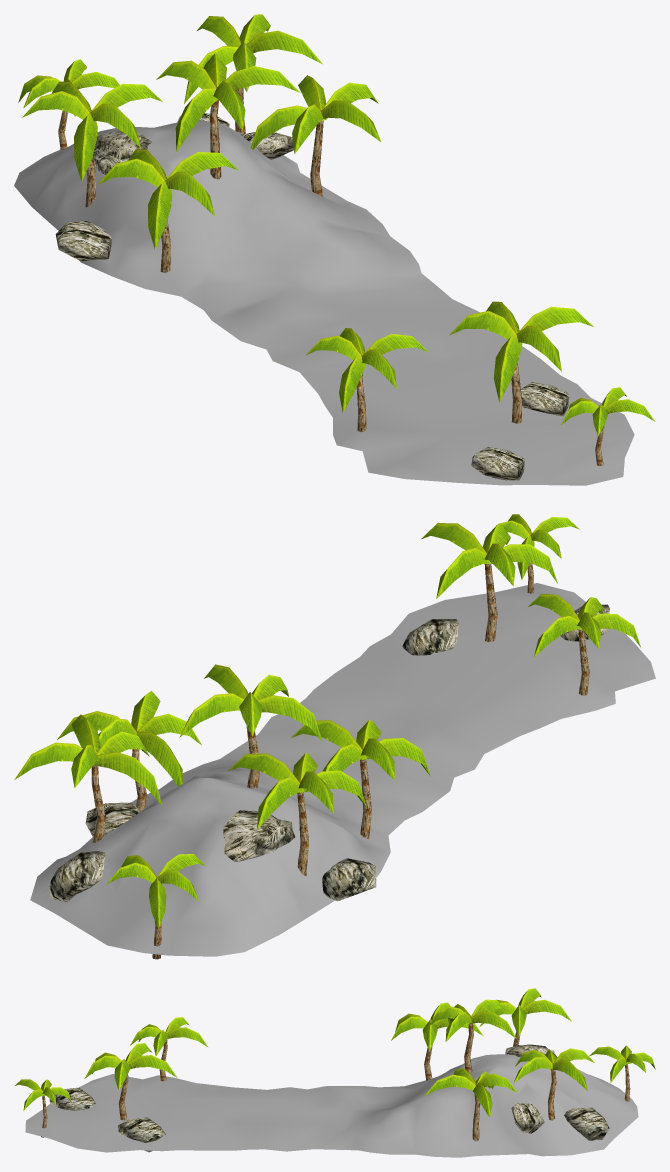
The model's file is island06.fbx.
The picture shows the model from 3 angles, top to bottom: view 1: azimuth 30°, elevation 25°; view 2: azimuth 150°, elevation 25°; view 3: azimuth 270°, elevation 25°; orthographic projection. The views are drawn at different scales.
Parts seen in each view (by area): view 1: island_06; view 2: island_06; view 3: island_06.
Boxes of the visible parts, x1,y1,x2,y2 form: island_06: [14, 14, 655, 485]; island_06: [14, 514, 655, 959]; island_06: [15, 988, 655, 1157].
Size of the model in its own units: 18.48 by 10.29 by 50.08.
